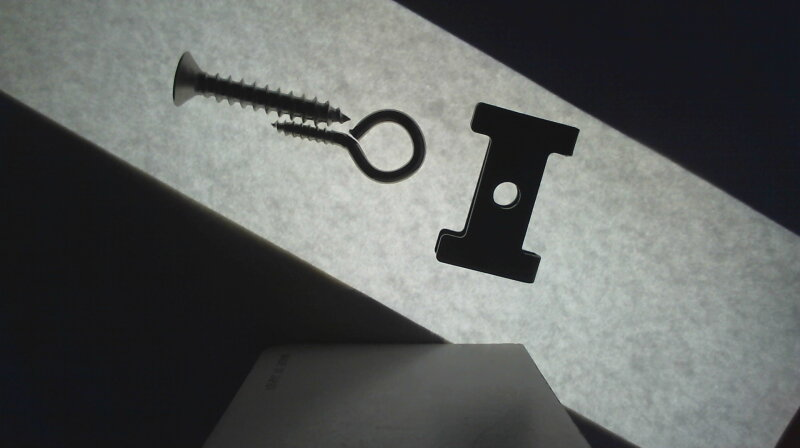O001: (270, 108, 428, 183)
O002: (434, 100, 581, 287)
S001: (169, 51, 351, 124)
